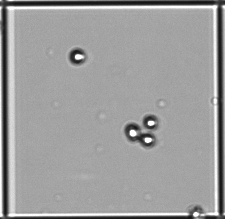Living Cell: (69, 48, 86, 65), (125, 123, 140, 142), (139, 133, 155, 148), (143, 115, 159, 130)
